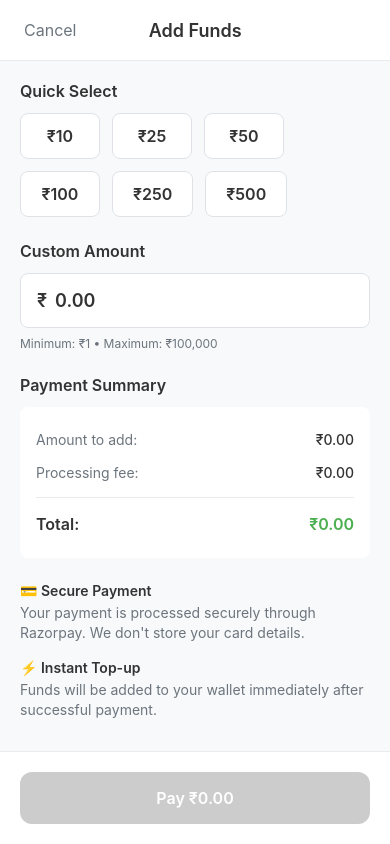
TopUpModal › should handle preset amount selection
What coordinates should you click on to do the following:
click the text "₹25"
I would click on:
 (152, 136)
Its box is [138,126,166,146].
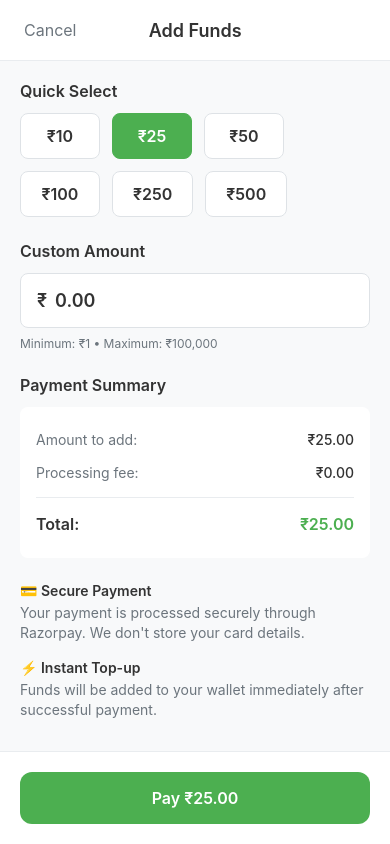
Check: the text "Pay ₹25.00" is shown, box [152,788,238,808]
